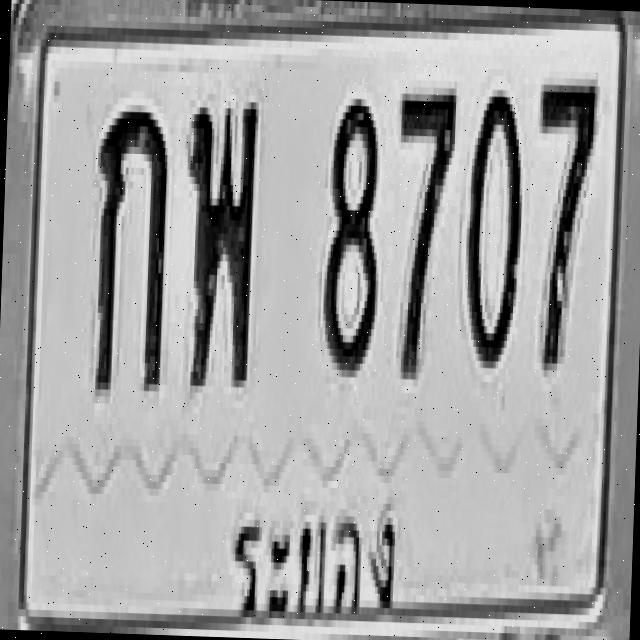0: (460, 82, 524, 368)
10GorGai: (90, 104, 168, 398)
39PhorPan: (180, 97, 258, 390)
7: (389, 86, 456, 380), (530, 77, 596, 371)
8: (319, 90, 383, 378)
Rayong: (219, 478, 408, 628)
